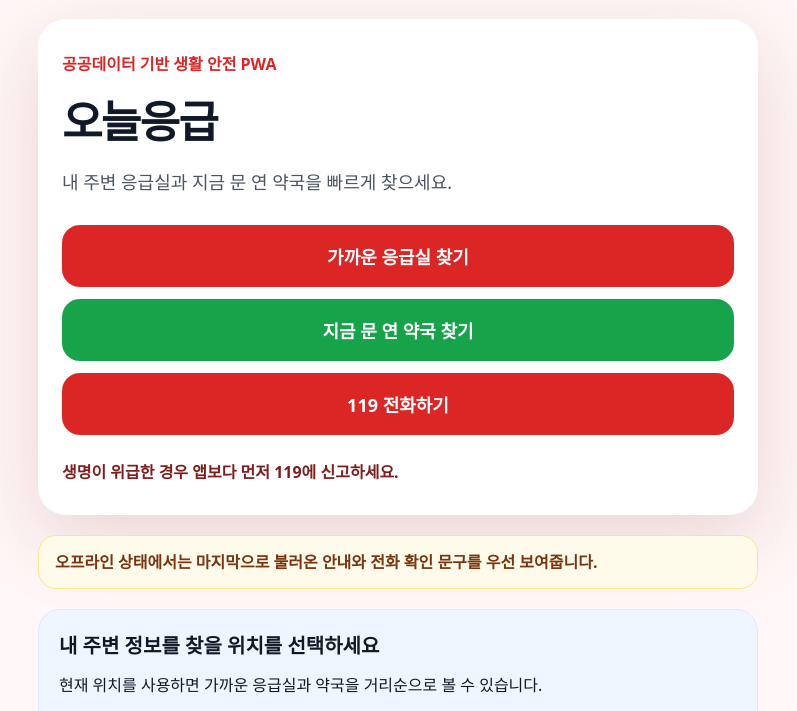
오늘응급 검색 흐름 › uses browser geolocation instead of a Seoul default when the emergency button is clicked
Click the button "가까운 응급실 찾기".
click(398, 256)  # box [62,225,734,287]
(page scrolled)
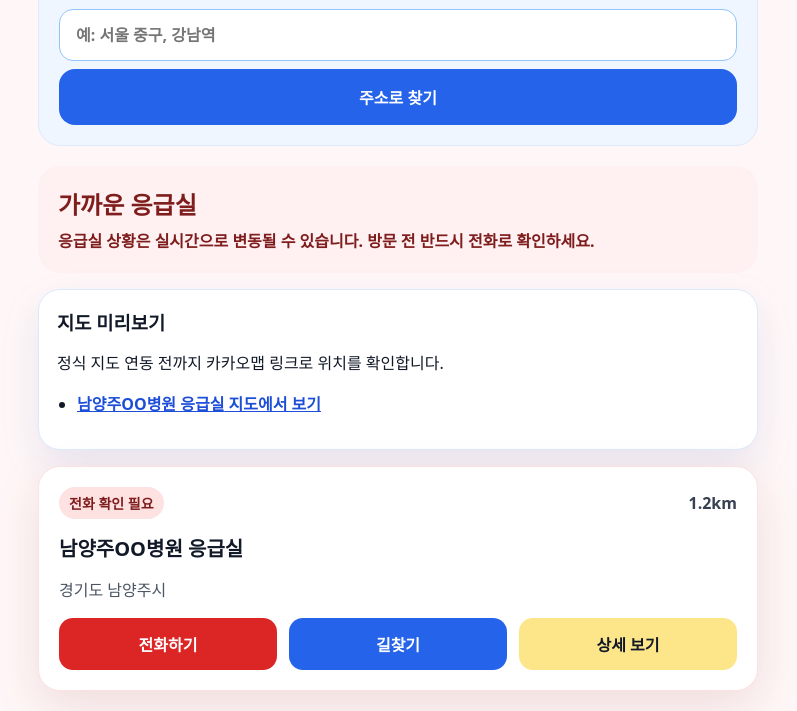
expect the heading "가까운 응급실" is shown: met, box [58,188,197,221]
expect the heading "남양주OO병원 응급실" is shown: met, box [59,535,243,562]
